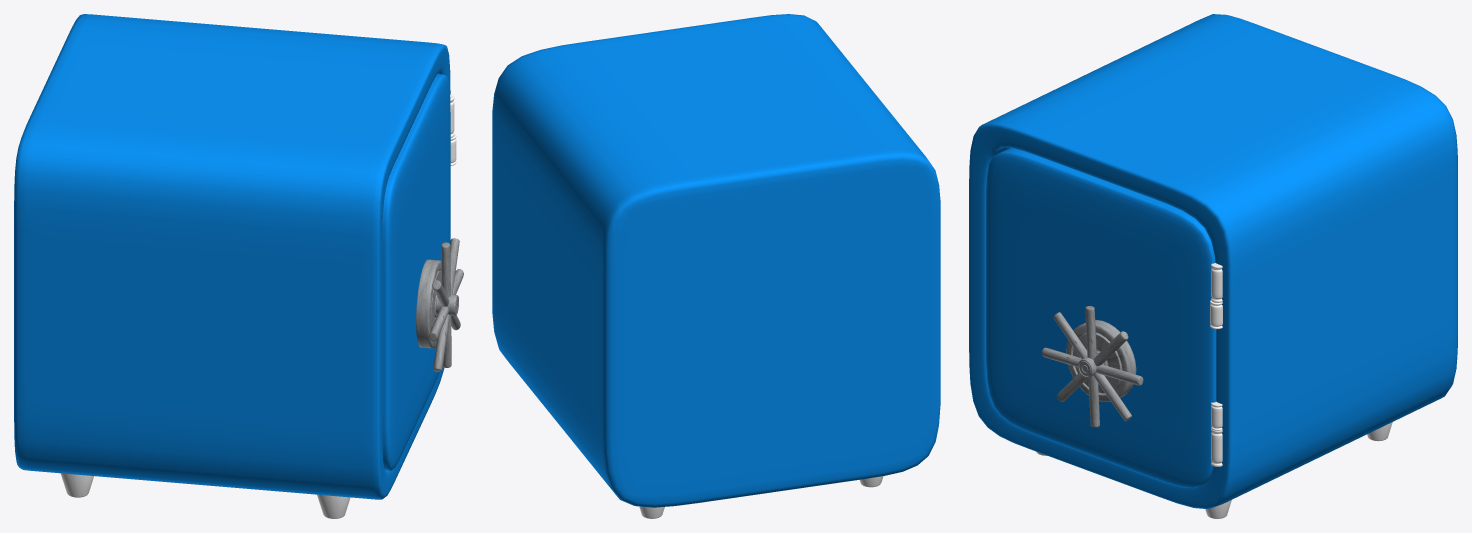
Rendered from Vault.glb.
The picture shows the model from 3 angles, left to right: view 1: azimuth 30°, elevation 25°; view 2: azimuth 150°, elevation 25°; view 3: azimuth 270°, elevation 25°; orthographic projection. The views are drawn at different scales.
Parts seen in each view (by area): view 1: vault, door, Cylinder, stand; view 2: vault; view 3: vault, door, Cylinder, stand.
Boxes of the visible parts, x1=… form: vault: x1=14, y1=14, x2=450, y2=499; door: x1=382, y1=74, x2=450, y2=470; Cylinder: x1=416, y1=238, x2=463, y2=371; stand: x1=60, y1=473, x2=350, y2=518; vault: x1=492, y1=14, x2=940, y2=507; vault: x1=969, y1=14, x2=1457, y2=509; door: x1=986, y1=148, x2=1216, y2=488; Cylinder: x1=1042, y1=306, x2=1143, y2=427; stand: x1=1036, y1=422, x2=1392, y2=518.
Size of the model in its own units: 2.8 by 2.16 by 2.8.
6 materials, 1 textured.
